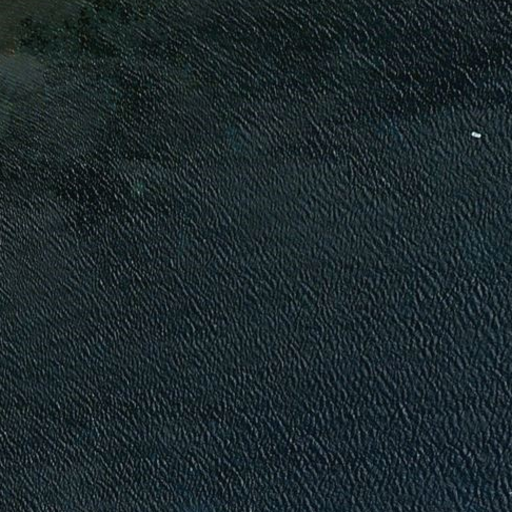ship: (470, 129, 481, 139)
